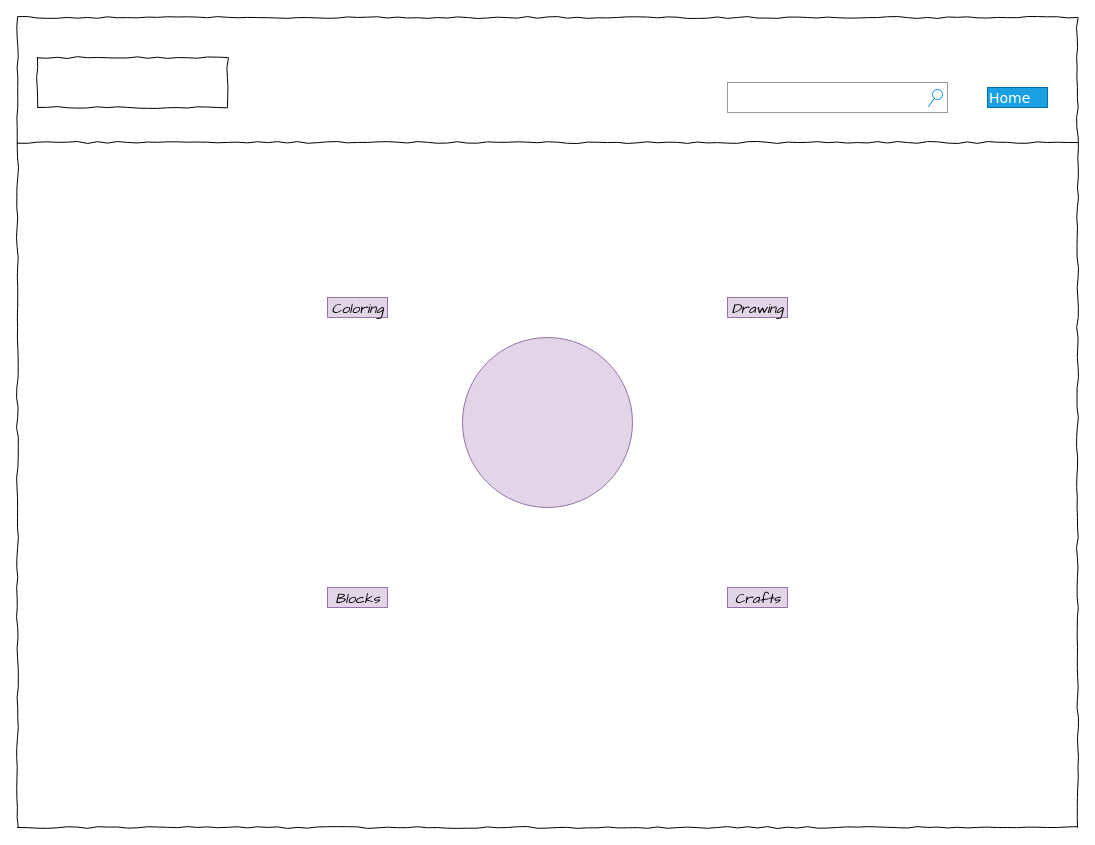
Some shapes in this 1095 by 845 pixel diagram are drawn without their labels. Each missing label, with the box of its shape:
Artwork Gallery: (36, 56, 228, 108)
Do: (462, 336, 632, 508)
Search: (726, 82, 948, 112)
